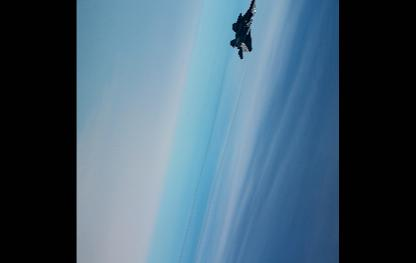F117: (230, 0, 257, 61)
